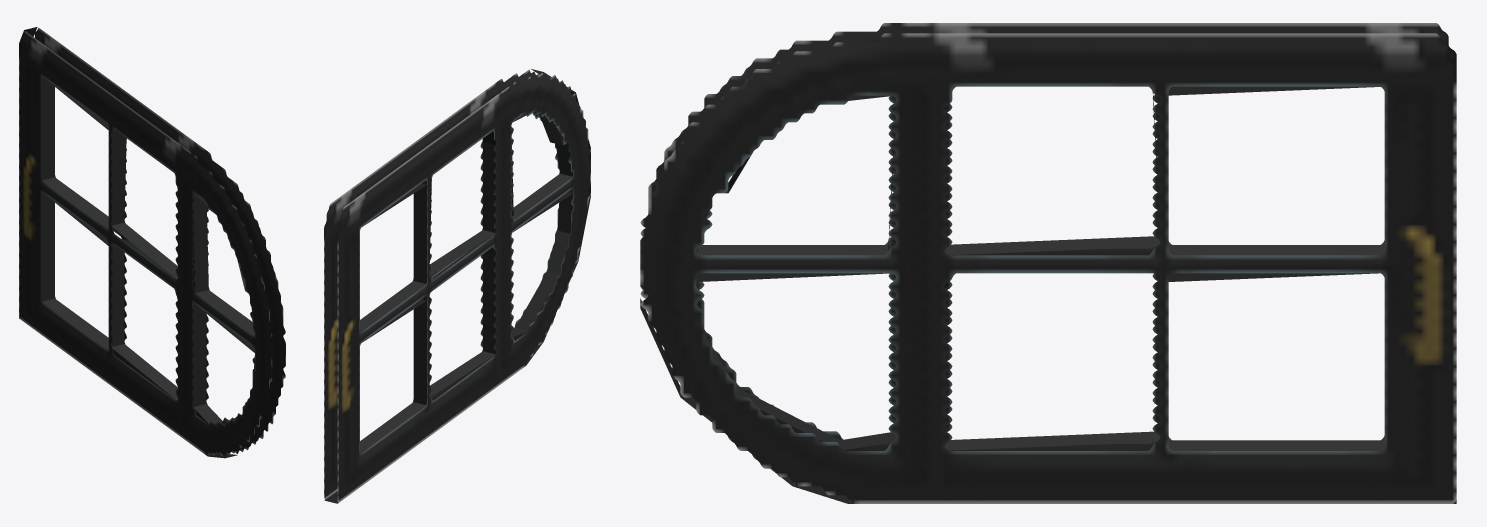
File: pz_native_fixtures_windows_metal_18_frame.obj
3 renders of one model, left to right at view 1: azimuth 30°, elevation 25°; view 2: azimuth 150°, elevation 25°; view 3: azimuth 270°, elevation 25°, orthographic. The views are drawn at different scales.
Parts seen in each view (by area): view 1: pz_native_fixtures_windows_metal_18_frame; view 2: pz_native_fixtures_windows_metal_18_frame; view 3: pz_native_fixtures_windows_metal_18_frame.
Boxes of the visible parts, bbox=[...] form: pz_native_fixtures_windows_metal_18_frame: bbox=[19, 27, 285, 458]; pz_native_fixtures_windows_metal_18_frame: bbox=[324, 69, 590, 503]; pz_native_fixtures_windows_metal_18_frame: bbox=[640, 23, 1456, 503].
Bounding box in the file's own units: 0.04 × 0.8594 × 1.35.
Materials: 1 (1 with a texture image).
